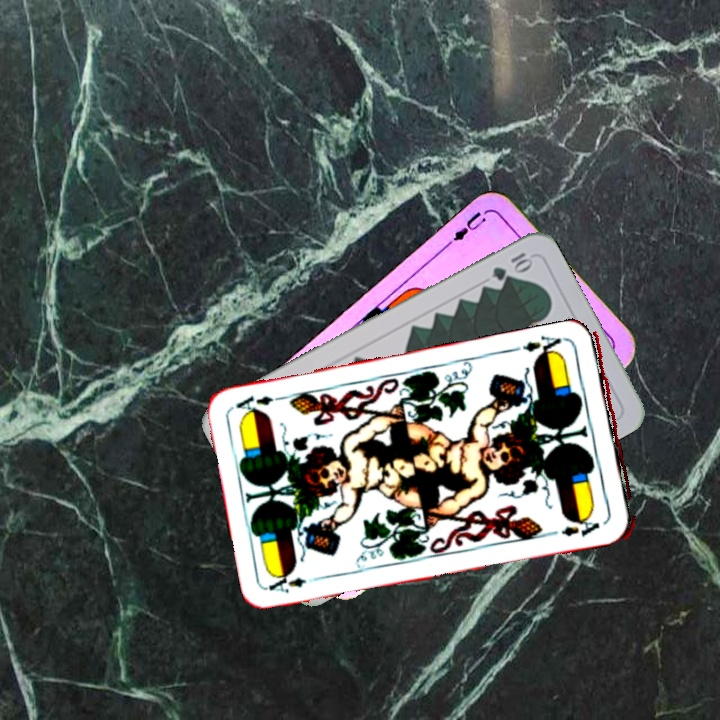EA: (514, 332, 575, 361), (265, 570, 324, 596)
EU: (449, 207, 489, 244)
G10: (488, 248, 535, 284)
